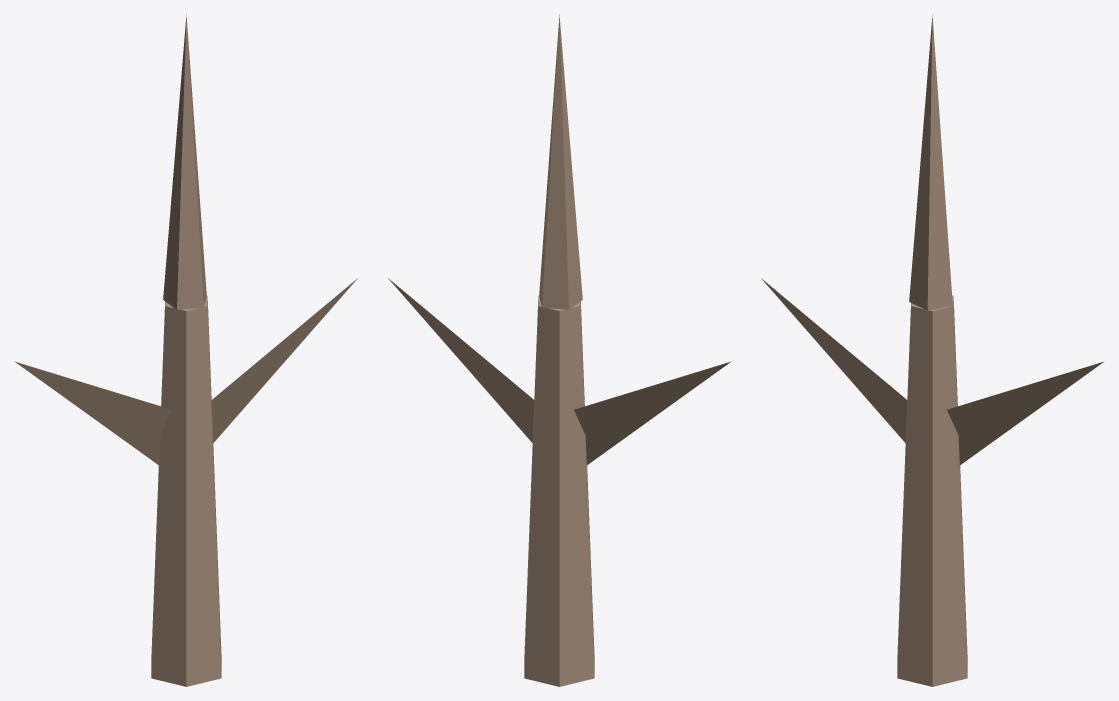
Rendered from tree-dead.glb.
The picture shows the model from 3 angles, left to right: view 1: azimuth 30°, elevation 25°; view 2: azimuth 150°, elevation 25°; view 3: azimuth 330°, elevation 25°; orthographic projection.
Parts seen in each view (by area): view 1: tree-dead; view 2: tree-dead; view 3: tree-dead.
Boxes of the visible parts, <box> form: tree-dead: <box>15,14,357,686</box>; tree-dead: <box>388,14,730,686</box>; tree-dead: <box>761,14,1103,686</box>.
Bounding box in the file's own units: 3.96 × 7.2 × 0.7015.
